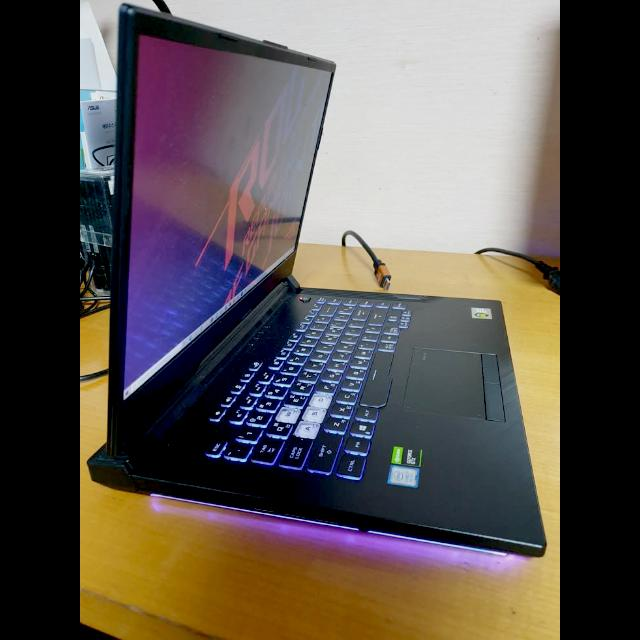laptop: (95, 2, 560, 552)
